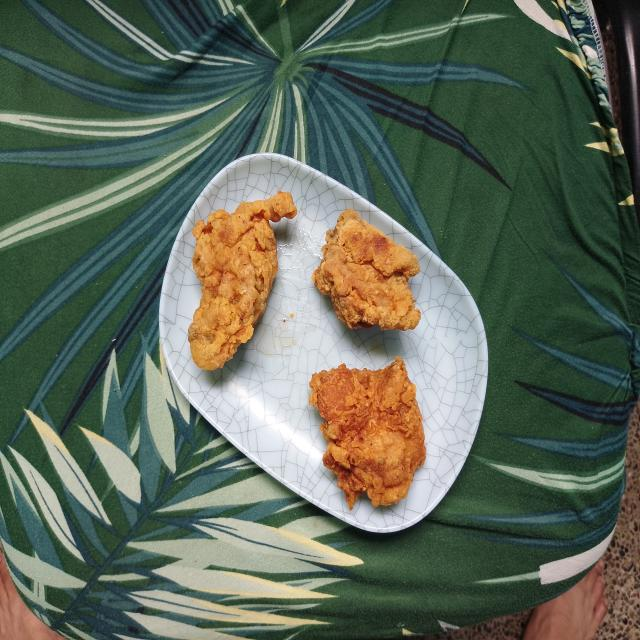Chicken -Fried Chicken-: (185, 180, 305, 394), (289, 350, 438, 522), (306, 203, 430, 356)
